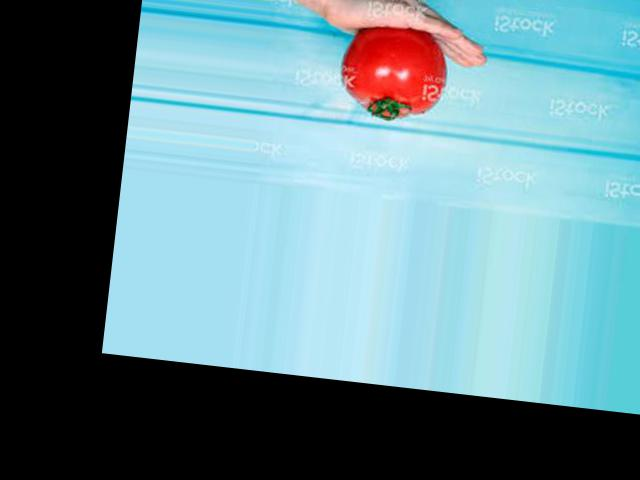tomato: (339, 21, 451, 124)
